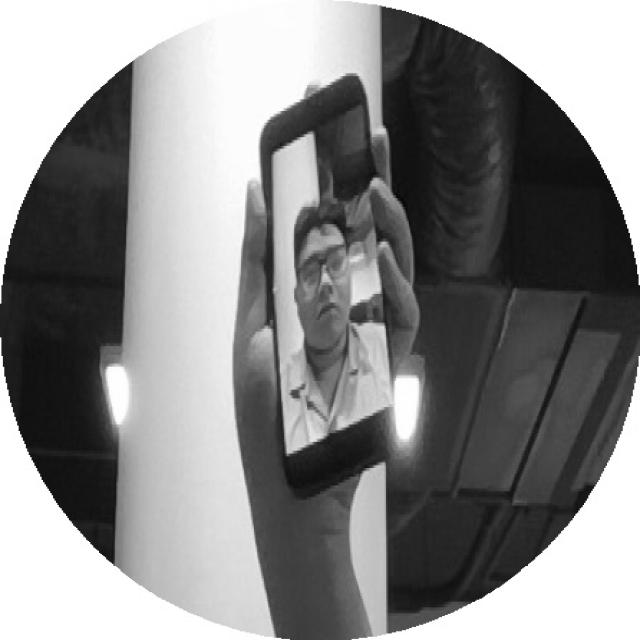fake: (231, 56, 444, 500), (252, 76, 404, 510)
